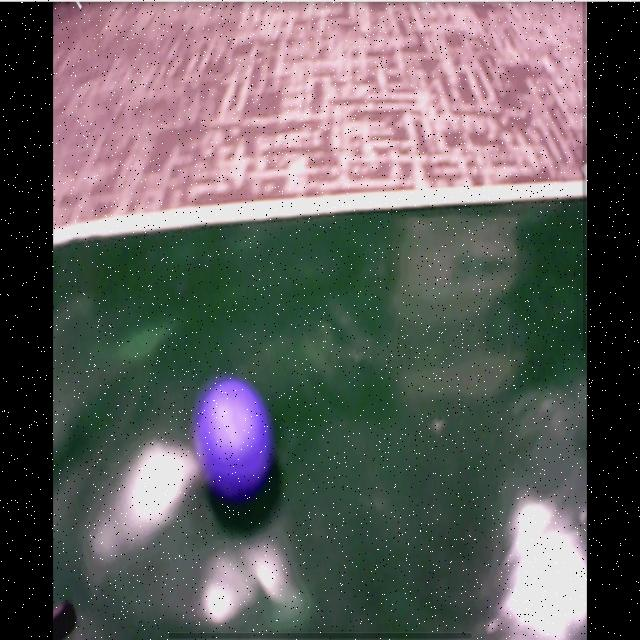ball: (197, 381, 270, 500)
